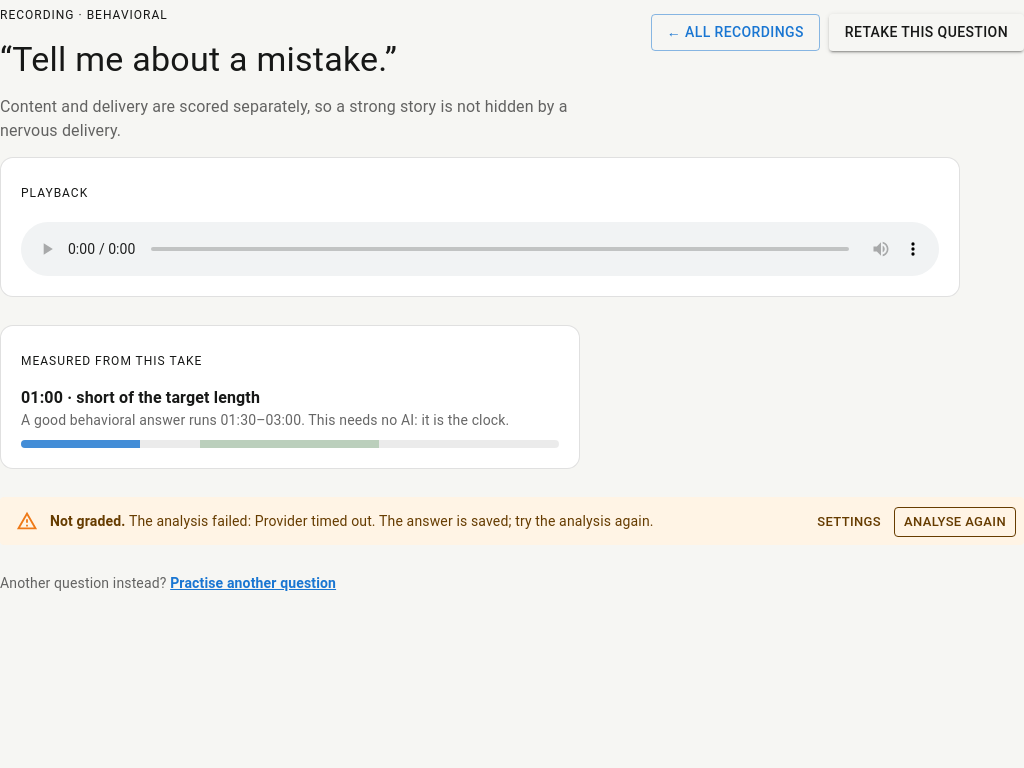
it: InterviewPracticeResultsPage › offers to run the analysis again when it was not graded
This screenshot has width=1024, height=768.
Expected: the text "The analysis failed: Provider timed out" is shown, [129, 513, 654, 529]
What coordinates should you click on to do the following:
click the button "Analyse again"
I would click on:
 (955, 522)
Its box is [894, 507, 1016, 538].
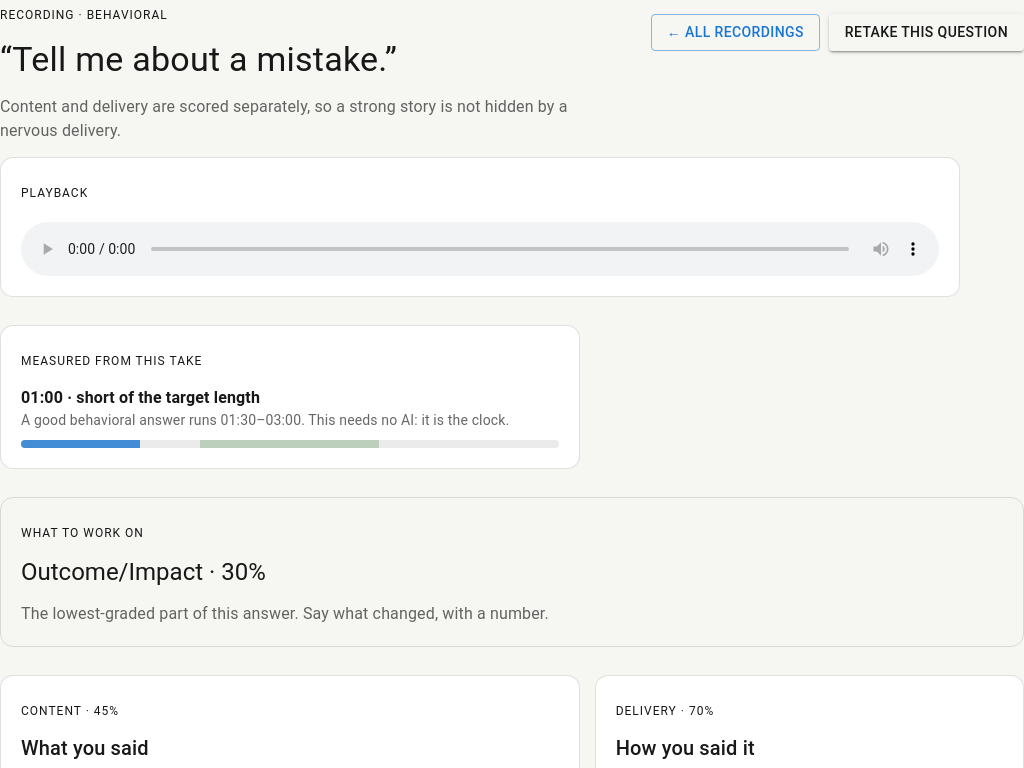
Expected: the heading "What you said" is shown, [21, 736, 149, 760]
